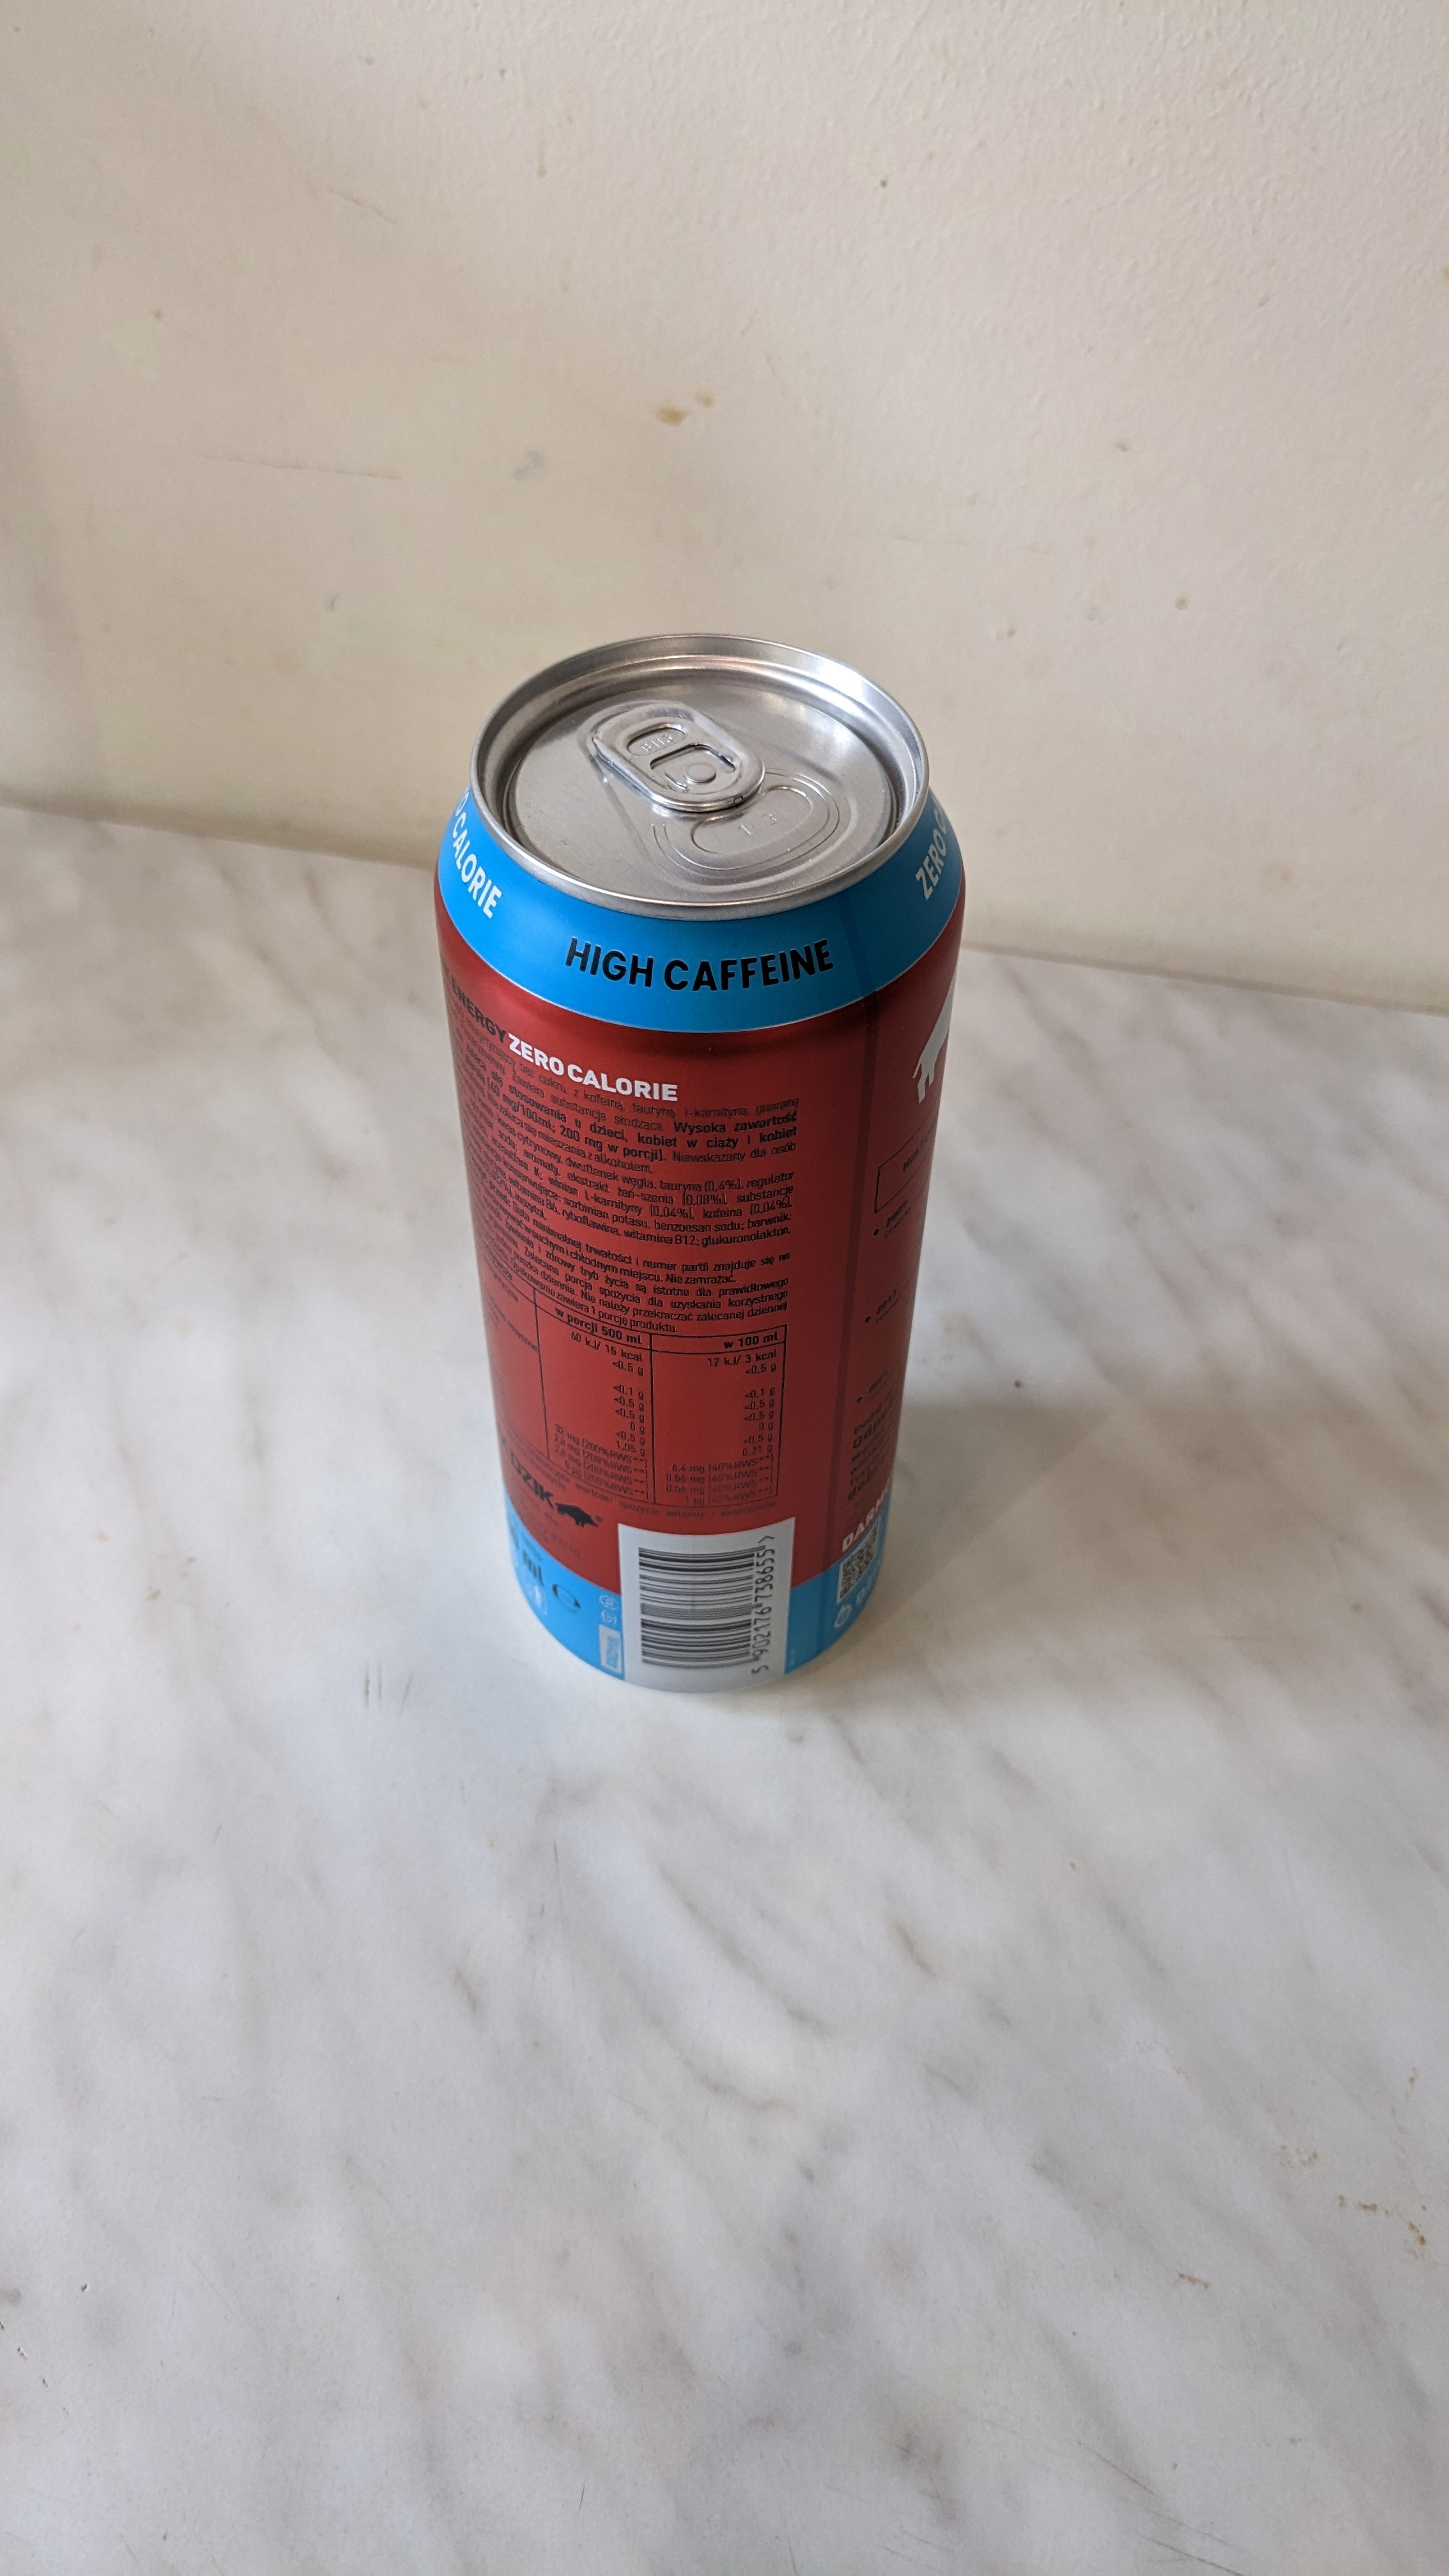dzik: (418, 616, 975, 1718)
